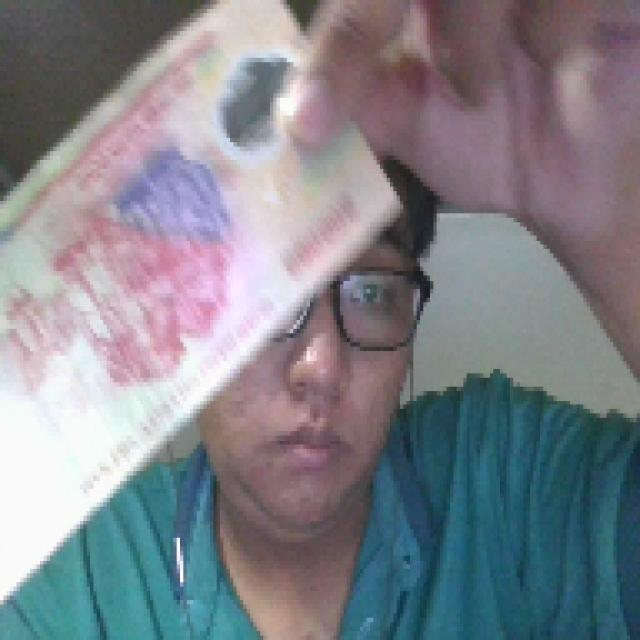200 000 VND: (0, 0, 407, 631)
